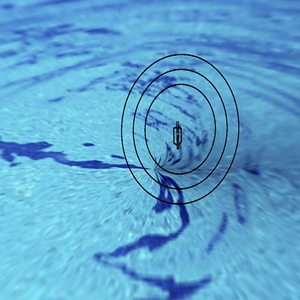circle: (104, 36, 250, 211)
submarine: (163, 115, 190, 153)
